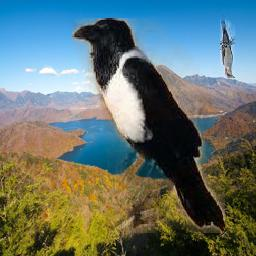Crow: (73, 19, 226, 234)
Cuckoo: (221, 10, 236, 78)
